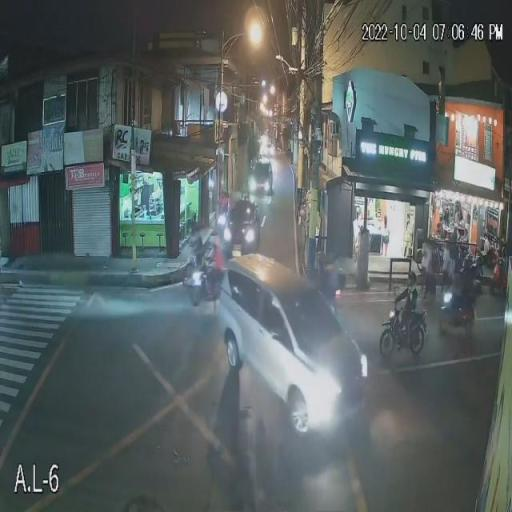helmet: (201, 232, 212, 243), (406, 272, 416, 283)
motorcycle: (379, 299, 428, 360), (438, 278, 480, 335), (182, 255, 220, 306)
rider: (394, 272, 422, 335), (448, 250, 474, 312), (189, 234, 209, 285), (206, 241, 224, 296), (487, 247, 504, 294)
